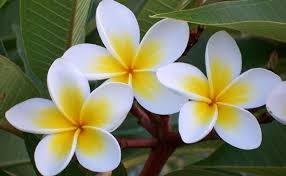frangipani: (5, 59, 133, 176)
